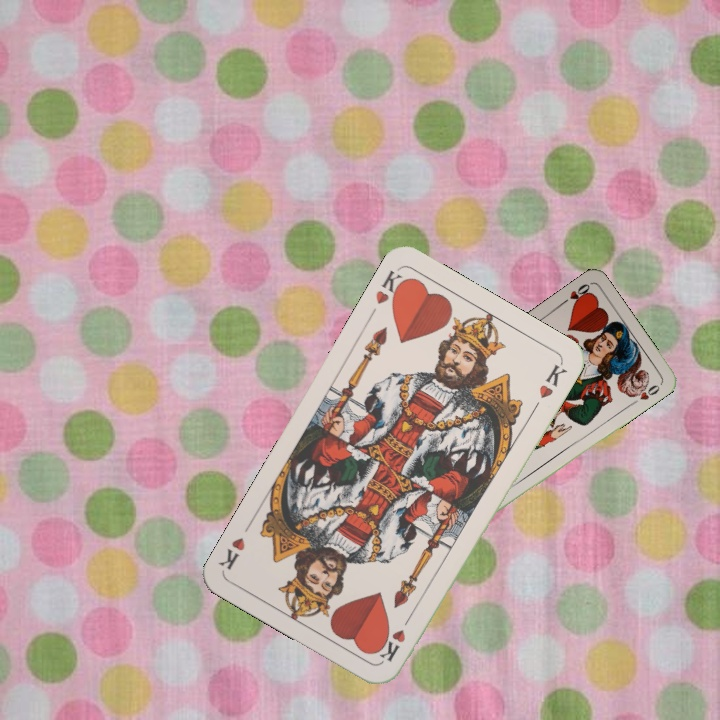HK: (375, 609, 415, 664), (371, 266, 411, 310)
HO: (557, 279, 594, 308)
